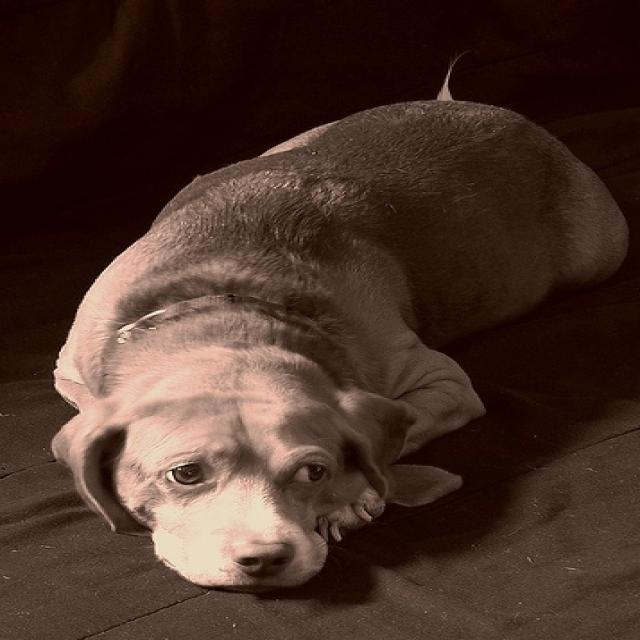dog: (28, 48, 636, 604)
